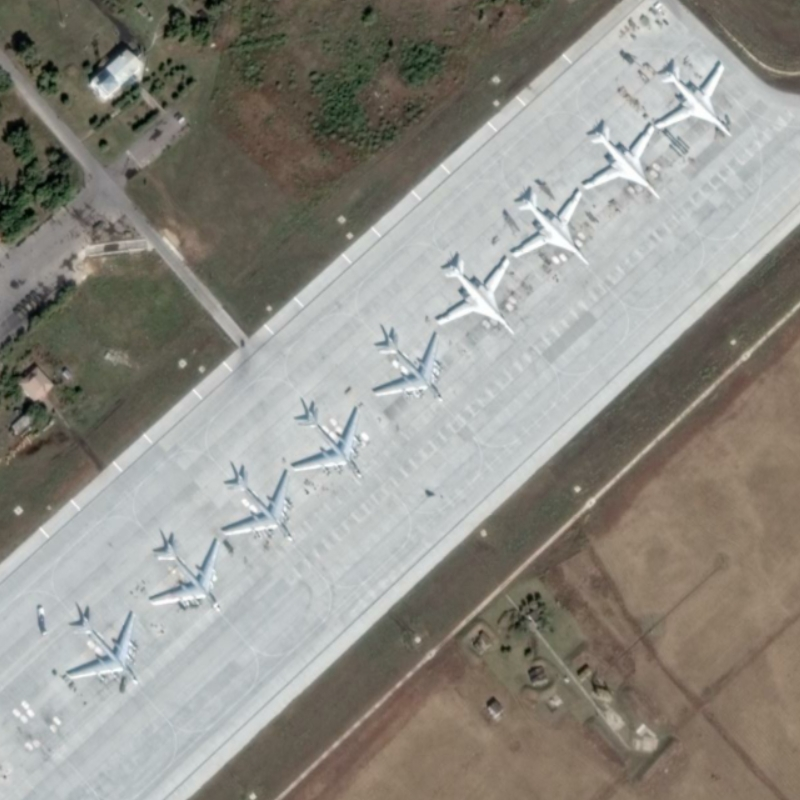A17: (143, 527, 225, 614), (62, 606, 144, 690), (286, 399, 366, 481), (219, 464, 296, 544), (369, 326, 446, 404)
A6: (430, 253, 519, 338), (509, 185, 596, 270), (575, 121, 664, 203), (653, 57, 736, 139)
